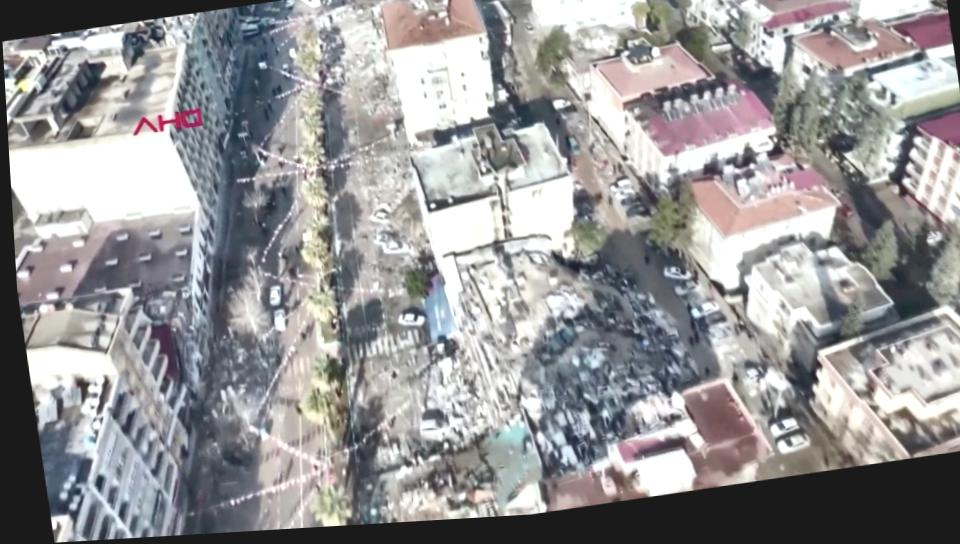kapali: (341, 323, 463, 524), (316, 0, 387, 141)
